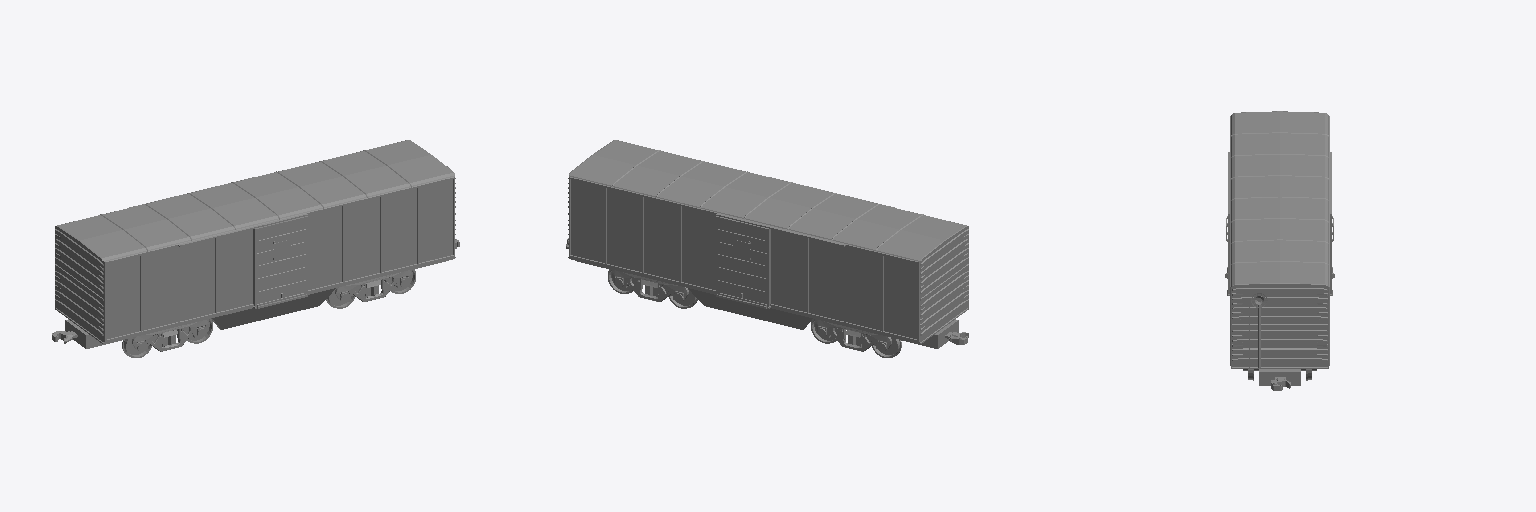
Rendered from train_boxcar.obj.
3 renders of one model, left to right at view 1: azimuth 30°, elevation 25°; view 2: azimuth 150°, elevation 25°; view 3: azimuth 270°, elevation 25°, orthographic.
Visible parts, largest first — view 1: (null); view 2: (null); view 3: (null).
Part boxes in pixels (left/top/right/bottom): (null): left=52, top=140, right=459, bottom=357; (null): left=566, top=140, right=968, bottom=357; (null): left=1225, top=111, right=1334, bottom=390.
Size of the model in its own units: 609 by 171 by 143.